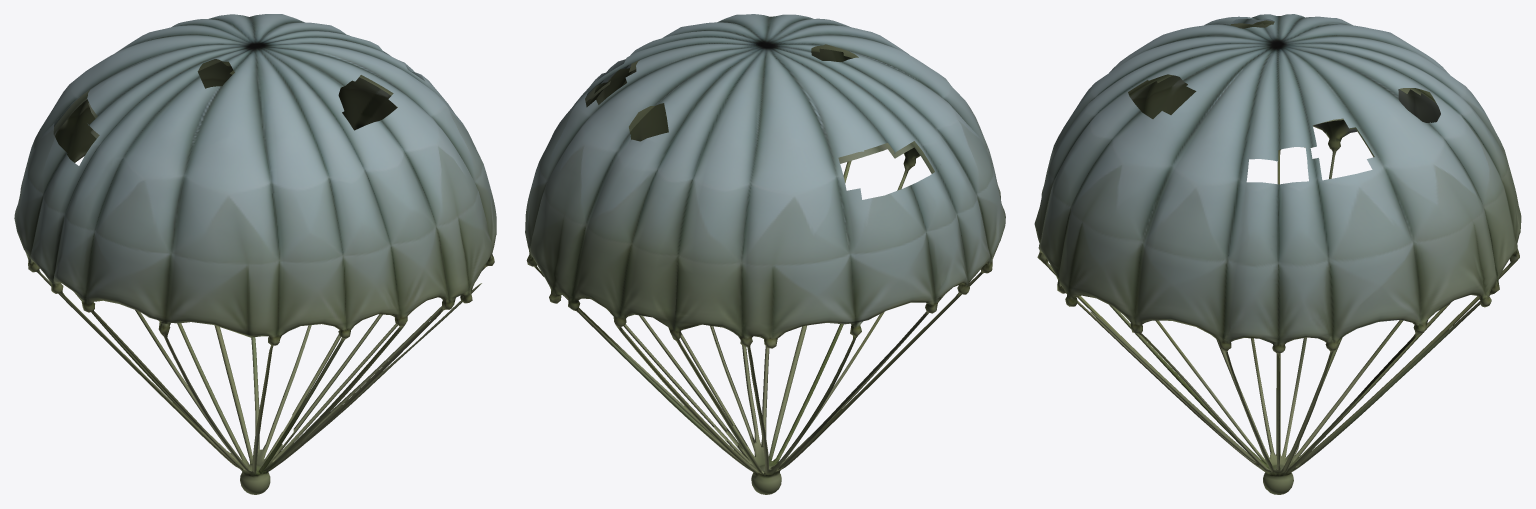
The model's file is 降落伞(破损).glb.
3 renders of one model, left to right at view 1: azimuth 30°, elevation 25°; view 2: azimuth 150°, elevation 25°; view 3: azimuth 270°, elevation 25°, orthographic.
Visible parts, largest first — view 1: Retopo_node_0.001; view 2: Retopo_node_0.001; view 3: Retopo_node_0.001.
Part boxes in pixels (<box>): Retopo_node_0.001: <box>14,14,496,494</box>; Retopo_node_0.001: <box>525,14,1005,494</box>; Retopo_node_0.001: <box>1034,14,1521,494</box>.
Size of the model in its own units: 1.09 by 1.13 by 1.1.
Materials: 1 (1 with a texture image).
